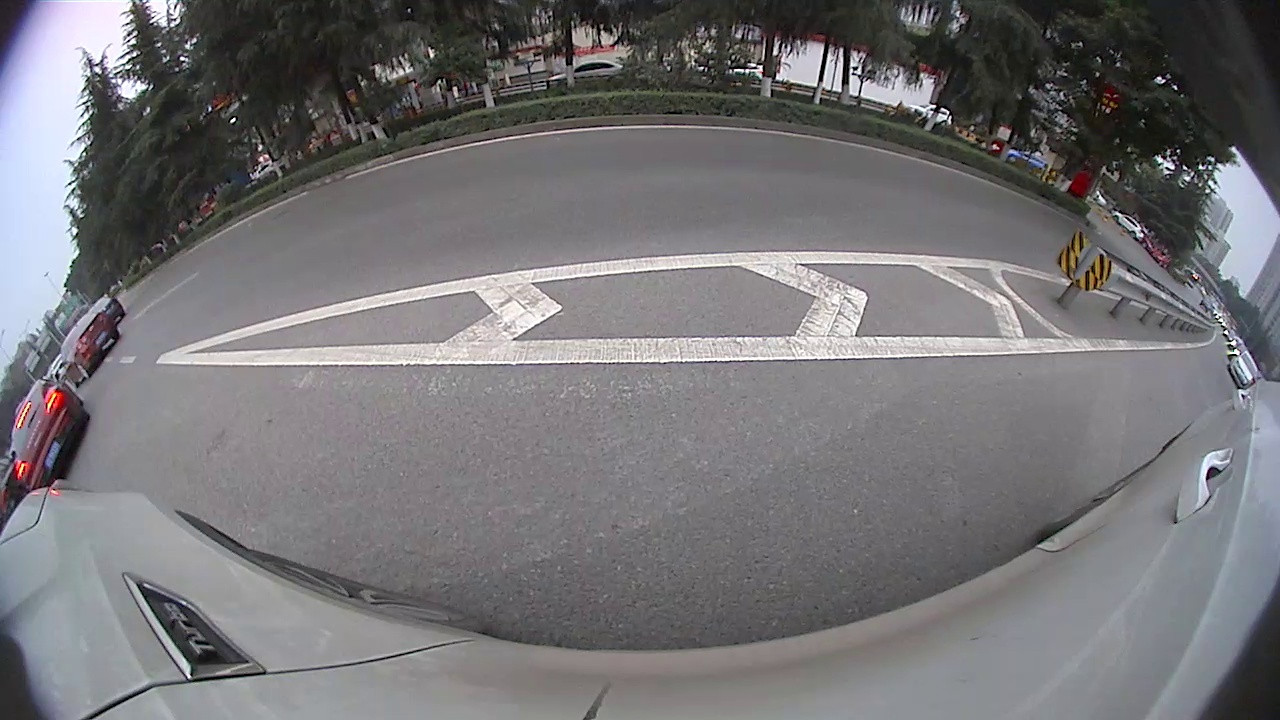car: (10, 381, 89, 493), (58, 310, 119, 391), (1229, 353, 1266, 392)
rear: (75, 364, 94, 383)
